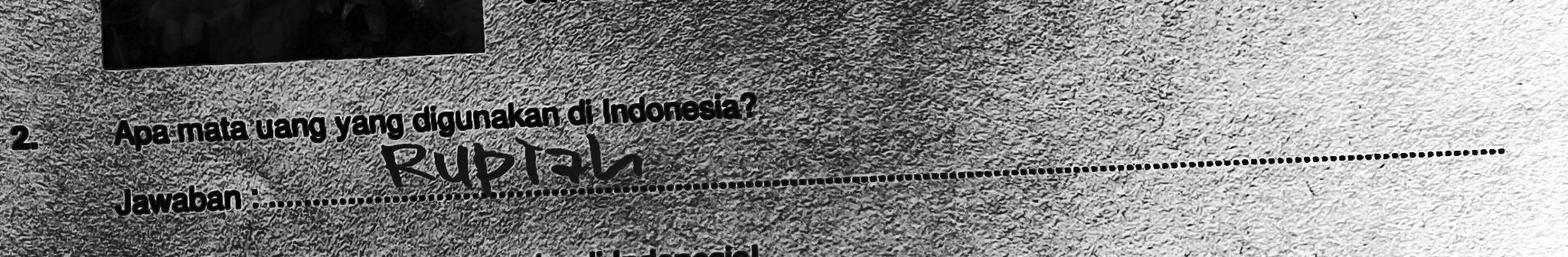jawaban: (375, 129, 641, 194)
